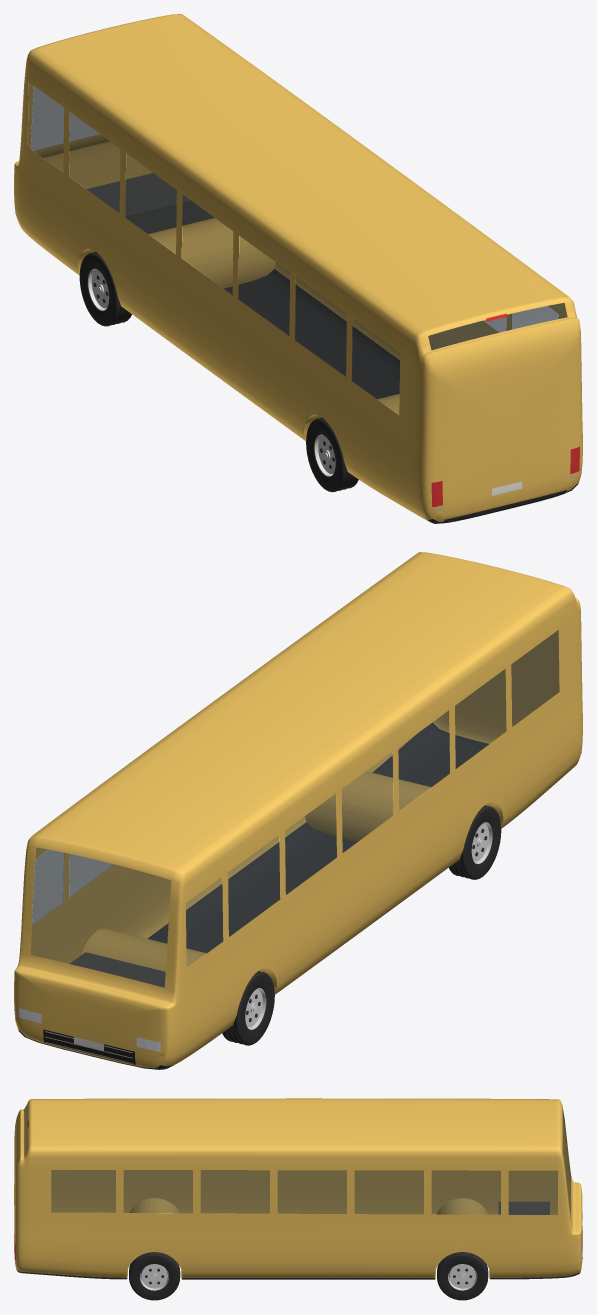
The model's file is traffic_coach.glb.
The picture shows the model from 3 angles, top to bottom: view 1: azimuth 30°, elevation 25°; view 2: azimuth 150°, elevation 25°; view 3: azimuth 270°, elevation 25°; orthographic projection. The views are drawn at different scales.
Parts seen in each view (by area): view 1: Body, Glass, Interior, Wheel_RL, Wheel_FL; view 2: Body, Glass, Wheel_FL, Wheel_RL, Interior; view 3: Body, Glass, Wheel_FR, Wheel_RR, Interior.
Boxes of the visible parts, x1=… form: Body: x1=14, y1=14, x2=582, y2=523; Glass: x1=28, y1=82, x2=567, y2=414; Interior: x1=86, y1=173, x2=214, y2=233; Wheel_RL: x1=306, y1=417, x2=358, y2=492; Wheel_FL: x1=79, y1=252, x2=131, y2=326; Body: x1=14, y1=552, x2=582, y2=1069; Glass: x1=30, y1=630, x2=559, y2=987; Wheel_FL: x1=222, y1=971, x2=274, y2=1045; Wheel_RL: x1=449, y1=805, x2=501, y2=879; Interior: x1=70, y1=952, x2=165, y2=987; Body: x1=14, y1=1098, x2=582, y2=1279; Glass: x1=24, y1=1104, x2=570, y2=1218; Wheel_FR: x1=437, y1=1252, x2=488, y2=1300; Wheel_RR: x1=129, y1=1252, x2=180, y2=1300; Interior: x1=498, y1=1201, x2=549, y2=1214.
Size of the model in its own units: 2.49 by 3.3 by 11.08.
